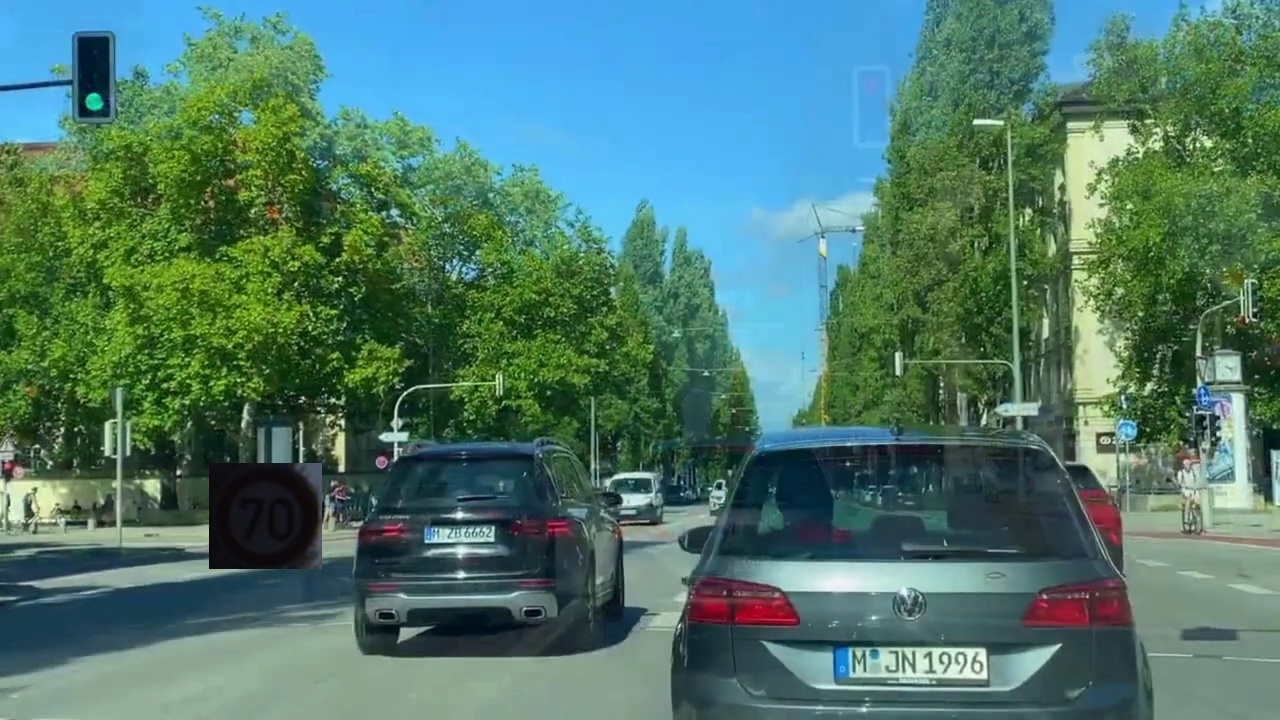Speed 70: (209, 463, 322, 569)
